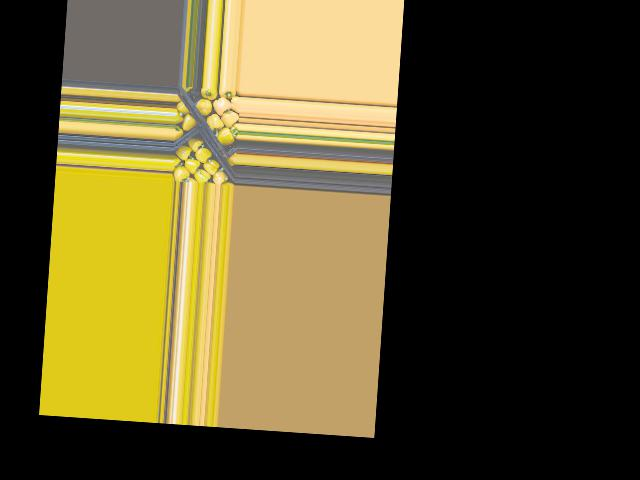bell_pepper: (170, 162, 188, 182)
